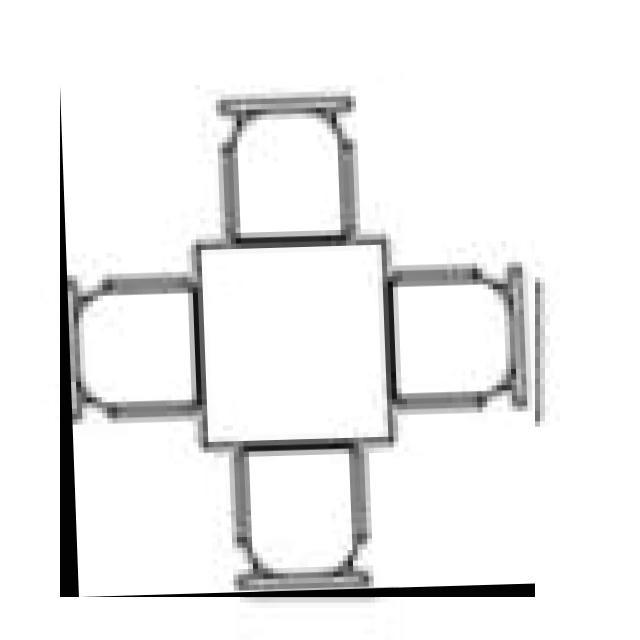table: (60, 85, 535, 598)
